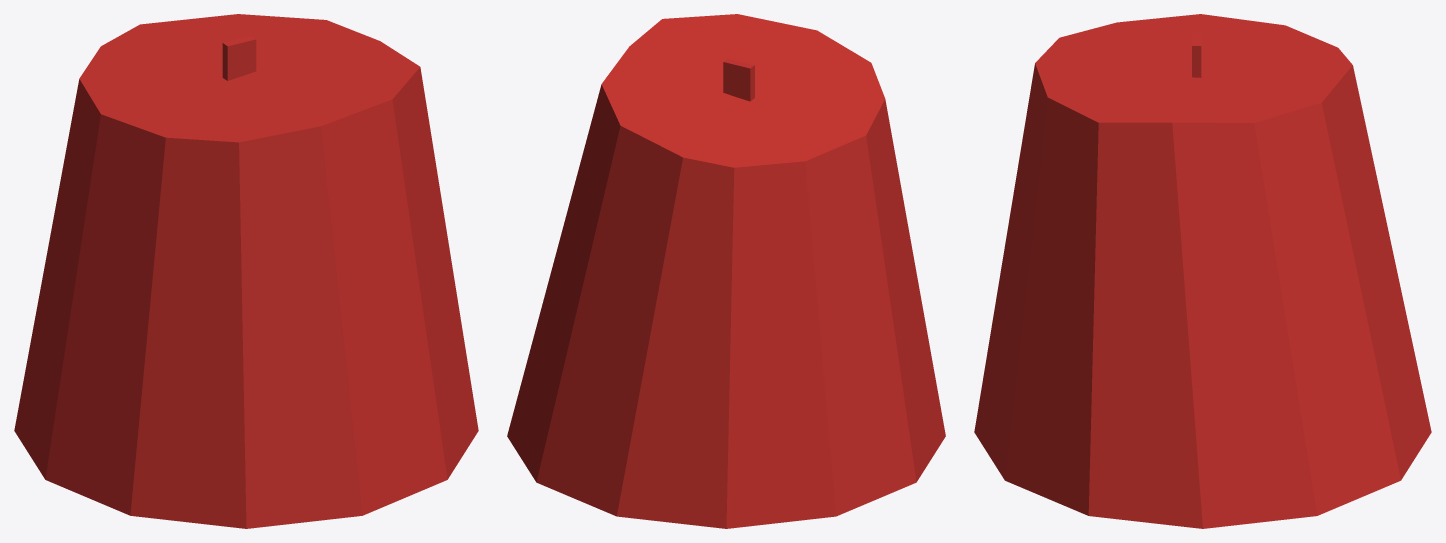
Rendered from hatt_fez.fbx.
The picture shows the model from 3 angles, left to right: view 1: azimuth 30°, elevation 25°; view 2: azimuth 150°, elevation 25°; view 3: azimuth 270°, elevation 25°; orthographic projection. The views are drawn at different scales.
Visible parts, largest first — view 1: Cube; view 2: Cube; view 3: Cube.
Boxes of the visible parts, x1=… form: Cube: x1=14, y1=14, x2=478, y2=528; Cube: x1=507, y1=14, x2=945, y2=528; Cube: x1=974, y1=14, x2=1431, y2=528.
Size of the model in its own units: 84 by 78.73 by 84.
